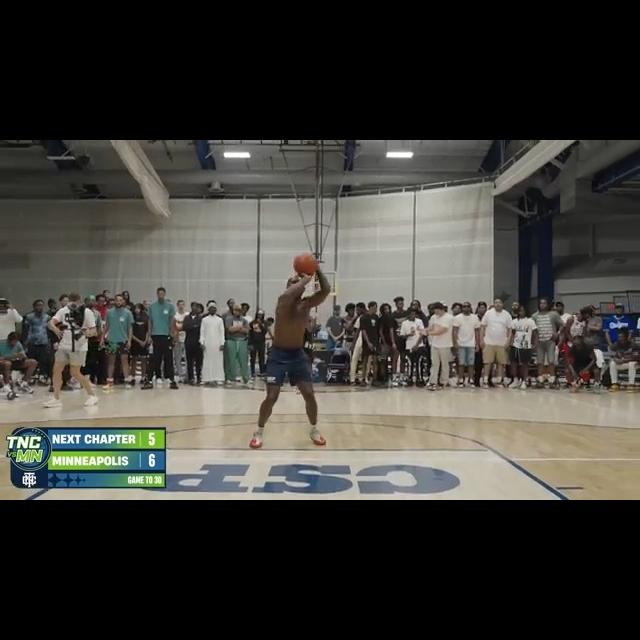basketball: (292, 251, 317, 275)
